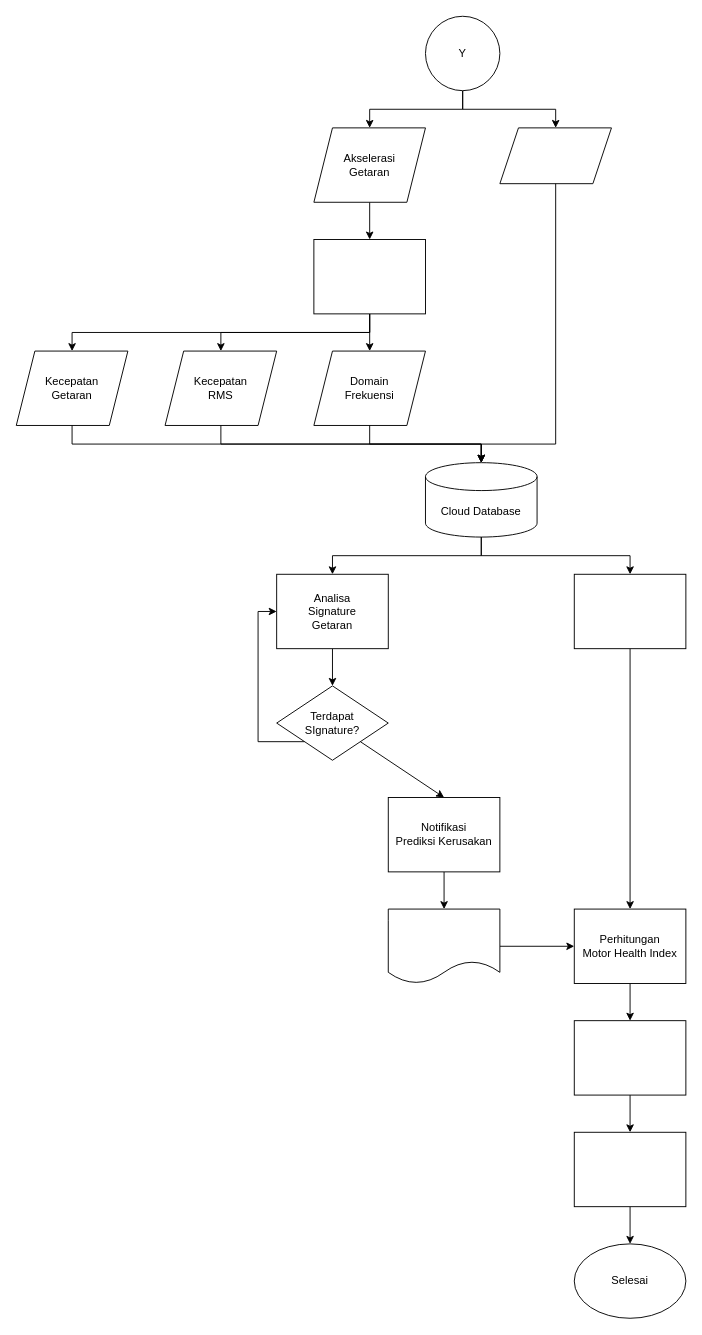
Image size: 702x1335. Some labels were removed from this diagram. Each missing label, with the centre of its shape:
"Dashboard/Interface Monitoring" goes at pixel 629 1169.
"Log Riwayat Signature Frekuensi Getaran" goes at pixel 443 945.
"Parameter Lain" goes at pixel 555 155.
"Pemrosesan Lanjut: Konversi, FFT, RMS" goes at pixel 369 276.
"Regresi Linier: Prediksi Sisa Umur Motor" goes at pixel 629 1057.
"Serial Plotter Data" goes at pixel 629 611.
